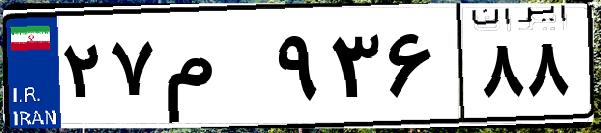2: (57, 26, 110, 100)
3: (330, 28, 385, 110)
6: (385, 28, 445, 110)
7: (110, 28, 158, 98)
8: (475, 38, 525, 113), (525, 38, 570, 115)
9: (270, 28, 330, 110)
م: (158, 20, 270, 120)
